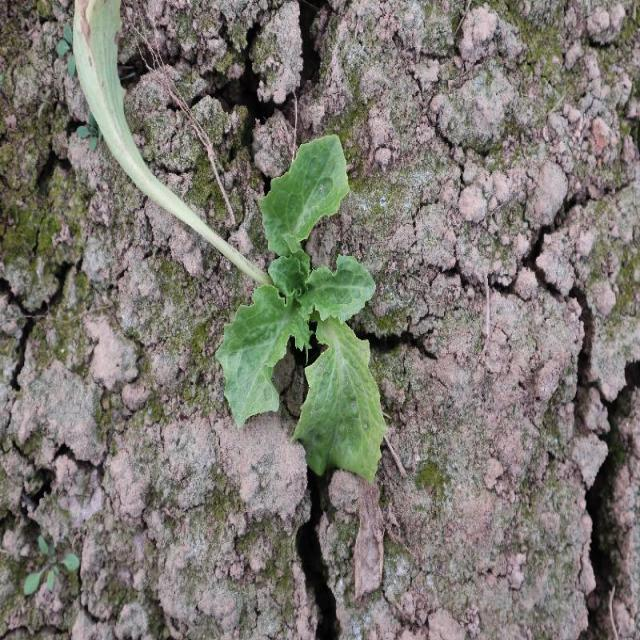crop: (216, 131, 394, 488)
